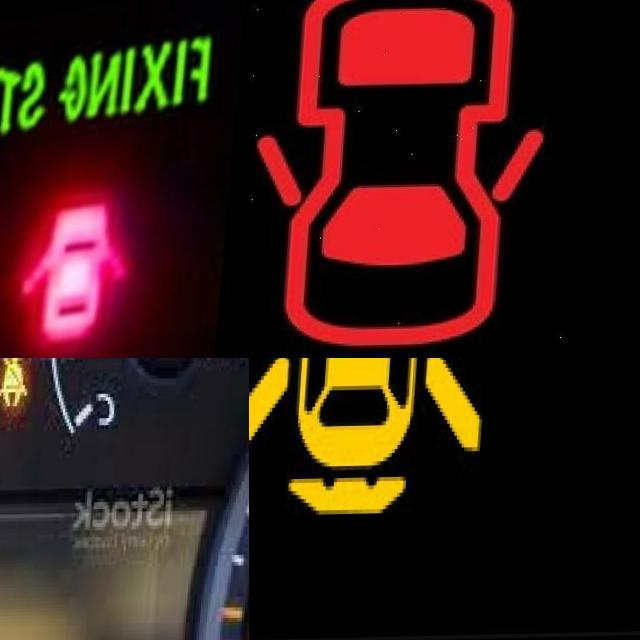Seat Belt: (0, 358, 38, 410)
